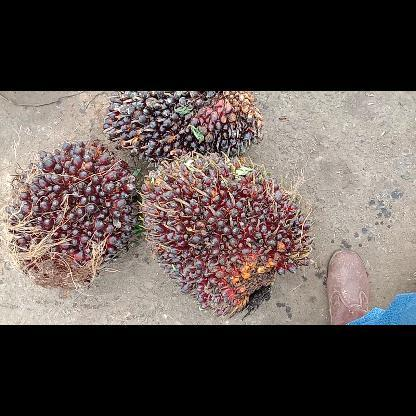Kurang masak: (142, 152, 312, 312), (6, 138, 136, 288)
TBS mentah: (102, 91, 262, 164)
